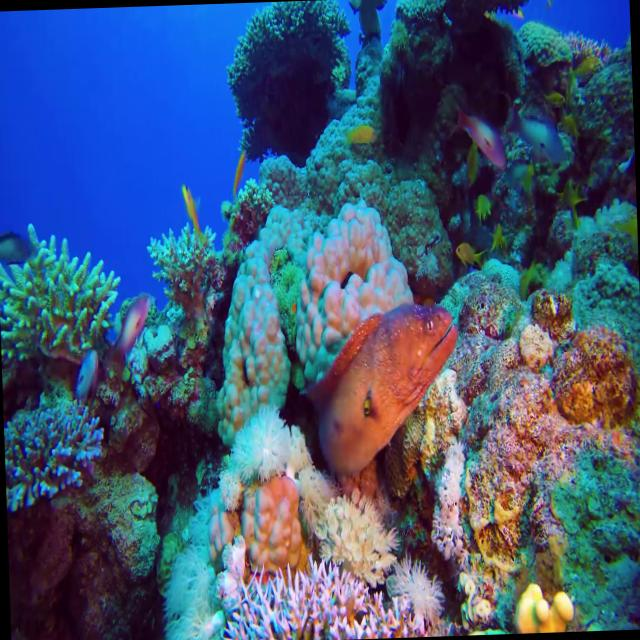fish: (303, 284, 465, 488), (108, 283, 158, 357), (68, 338, 106, 413), (174, 170, 208, 246), (338, 116, 378, 148)
